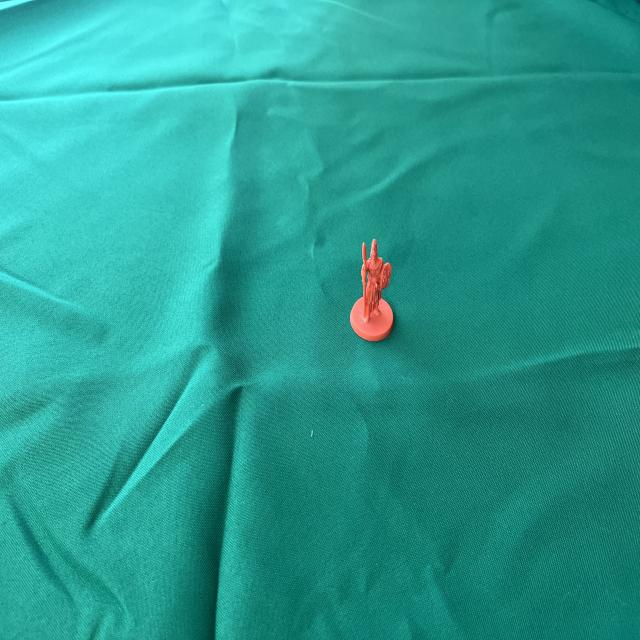amon_follower: (350, 240, 394, 342)
